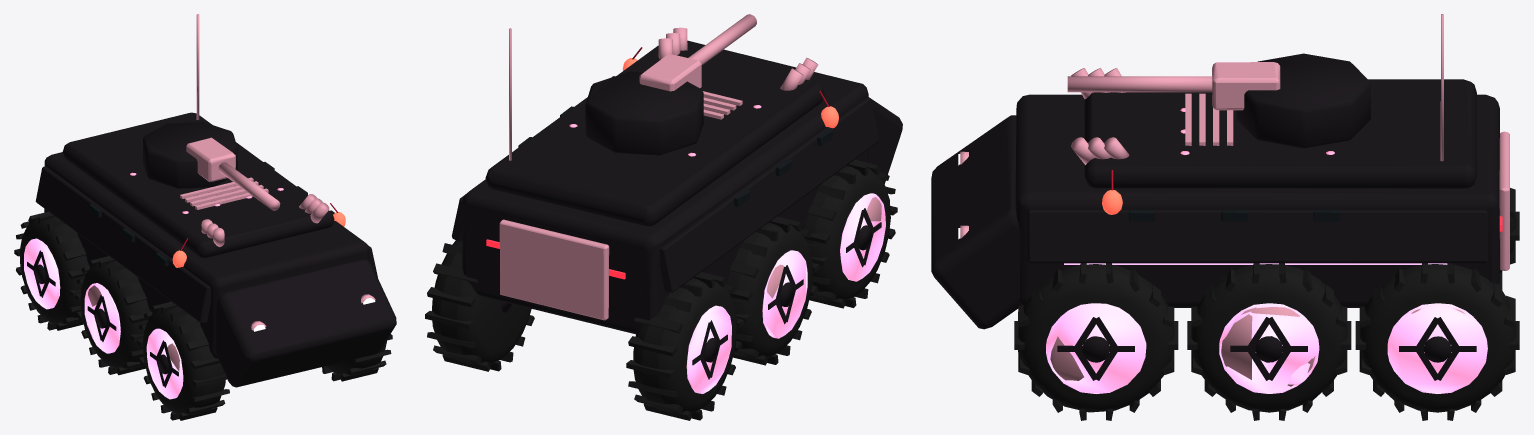
Rendered from apc_sakura.glb.
The picture shows the model from 3 angles, left to right: view 1: azimuth 30°, elevation 25°; view 2: azimuth 150°, elevation 25°; view 3: azimuth 270°, elevation 25°; orthographic projection. The views are drawn at different scales.
Visible parts, largest first — view 1: krop_net; view 2: krop_net; view 3: krop_net.
Part boxes in pixels (<box>): krop_net: <box>14,14,396,420</box>; krop_net: <box>425,14,902,420</box>; krop_net: <box>931,14,1519,420</box>.
Bounding box in the file's own units: 1.21 × 1.54 × 2.17.
